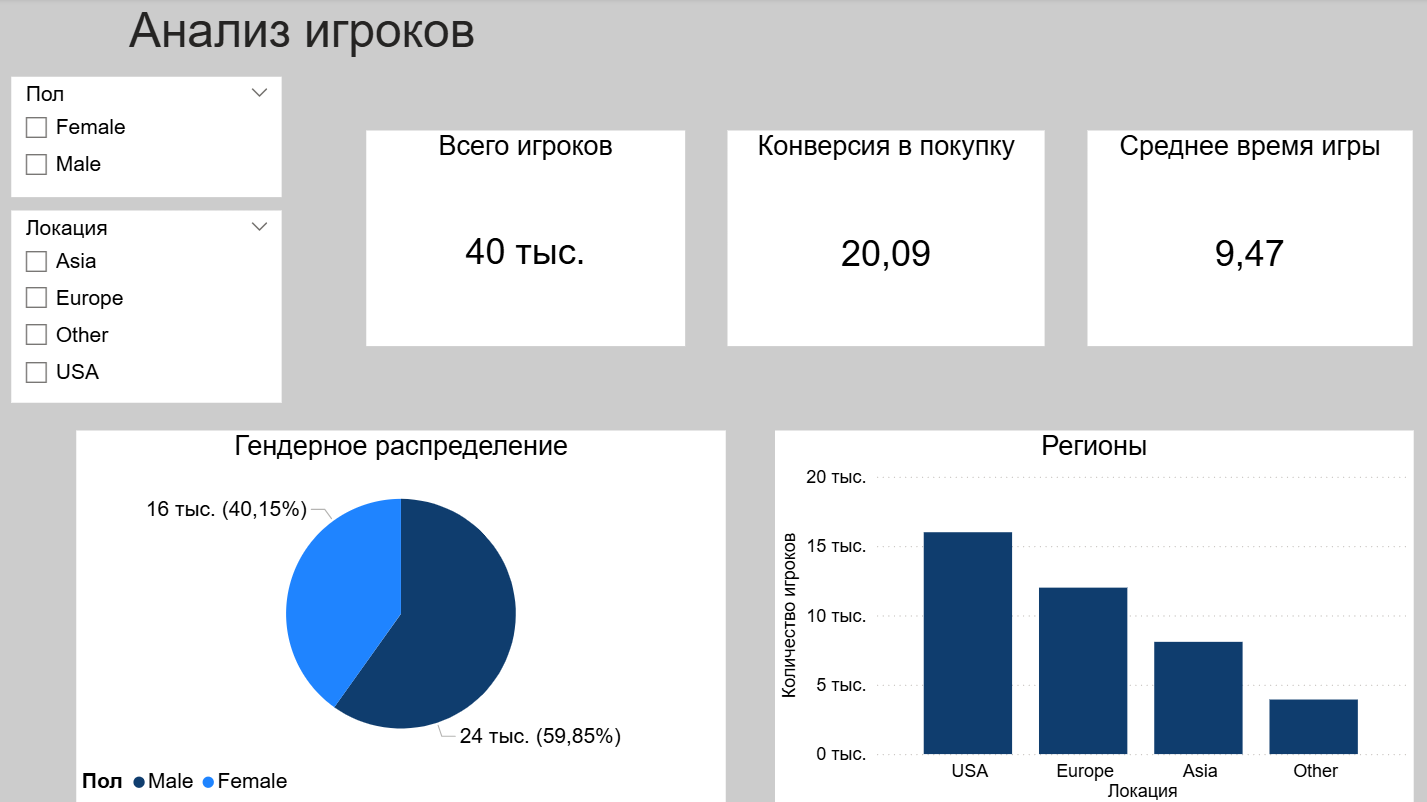

The dashboard page shown, as its layout file describes it:
{"tool":"powerbi","page":{"name":"Страница 1","canvas":[1280,720],"ordinal":0},"visuals":[{"type":"textbox","box":[0,0,558.8,69.8],"z":0},{"type":"card","title":"Всего игроков","fields":{"Values":["Меры.Total Players"]},"box":[330.7,118,284,192.1],"z":1000},{"type":"card","title":"Конверсия в покупку","fields":{"Values":["Меры.Purchase Conversion %"]},"box":[651.8,118,282.7,192.1],"z":2000},{"type":"card","title":"Среднее время игры","fields":{"Values":["Меры.Avg Sessions"]},"box":[972.9,118,289.5,192.1],"z":3000},{"type":"pieChart","title":"Гендерное распределение","fields":{"Category":["public powerbi_dashboard.gender"],"Y":["Sum(public powerbi_dashboard.players_count)"]},"box":[72.7,384.9,578.7,335],"z":4000},{"type":"clusteredColumnChart","title":"Регионы","fields":{"Category":["public powerbi_dashboard.location"],"Y":["Sum(public powerbi_dashboard.players_count)"]},"box":[694.2,384.9,568.7,335],"z":5000},{"type":"slicer","fields":{"Values":["public powerbi_dashboard.gender"]},"box":[14.3,69.8,240.9,106.9],"z":6000},{"type":"slicer","fields":{"Values":["public powerbi_dashboard.location"]},"box":[14.3,189.6,240.9,171],"z":7000}]}

Visuals, with their boxes in screenshot pixels (x1, y1, x2, y2), scaled from the page's 1280x720 canvas onto the 1427x802 screenshot:
textbox: rect(0, 0, 623, 78)
"Всего игроков" card: rect(369, 131, 685, 345)
"Конверсия в покупку" card: rect(727, 131, 1042, 345)
"Среднее время игры" card: rect(1085, 131, 1407, 345)
"Гендерное распределение" pieChart: rect(81, 429, 726, 801)
"Регионы" clusteredColumnChart: rect(774, 429, 1408, 801)
slicer - public powerbi_dashboard.gender: rect(16, 78, 285, 197)
slicer - public powerbi_dashboard.location: rect(16, 211, 285, 402)
